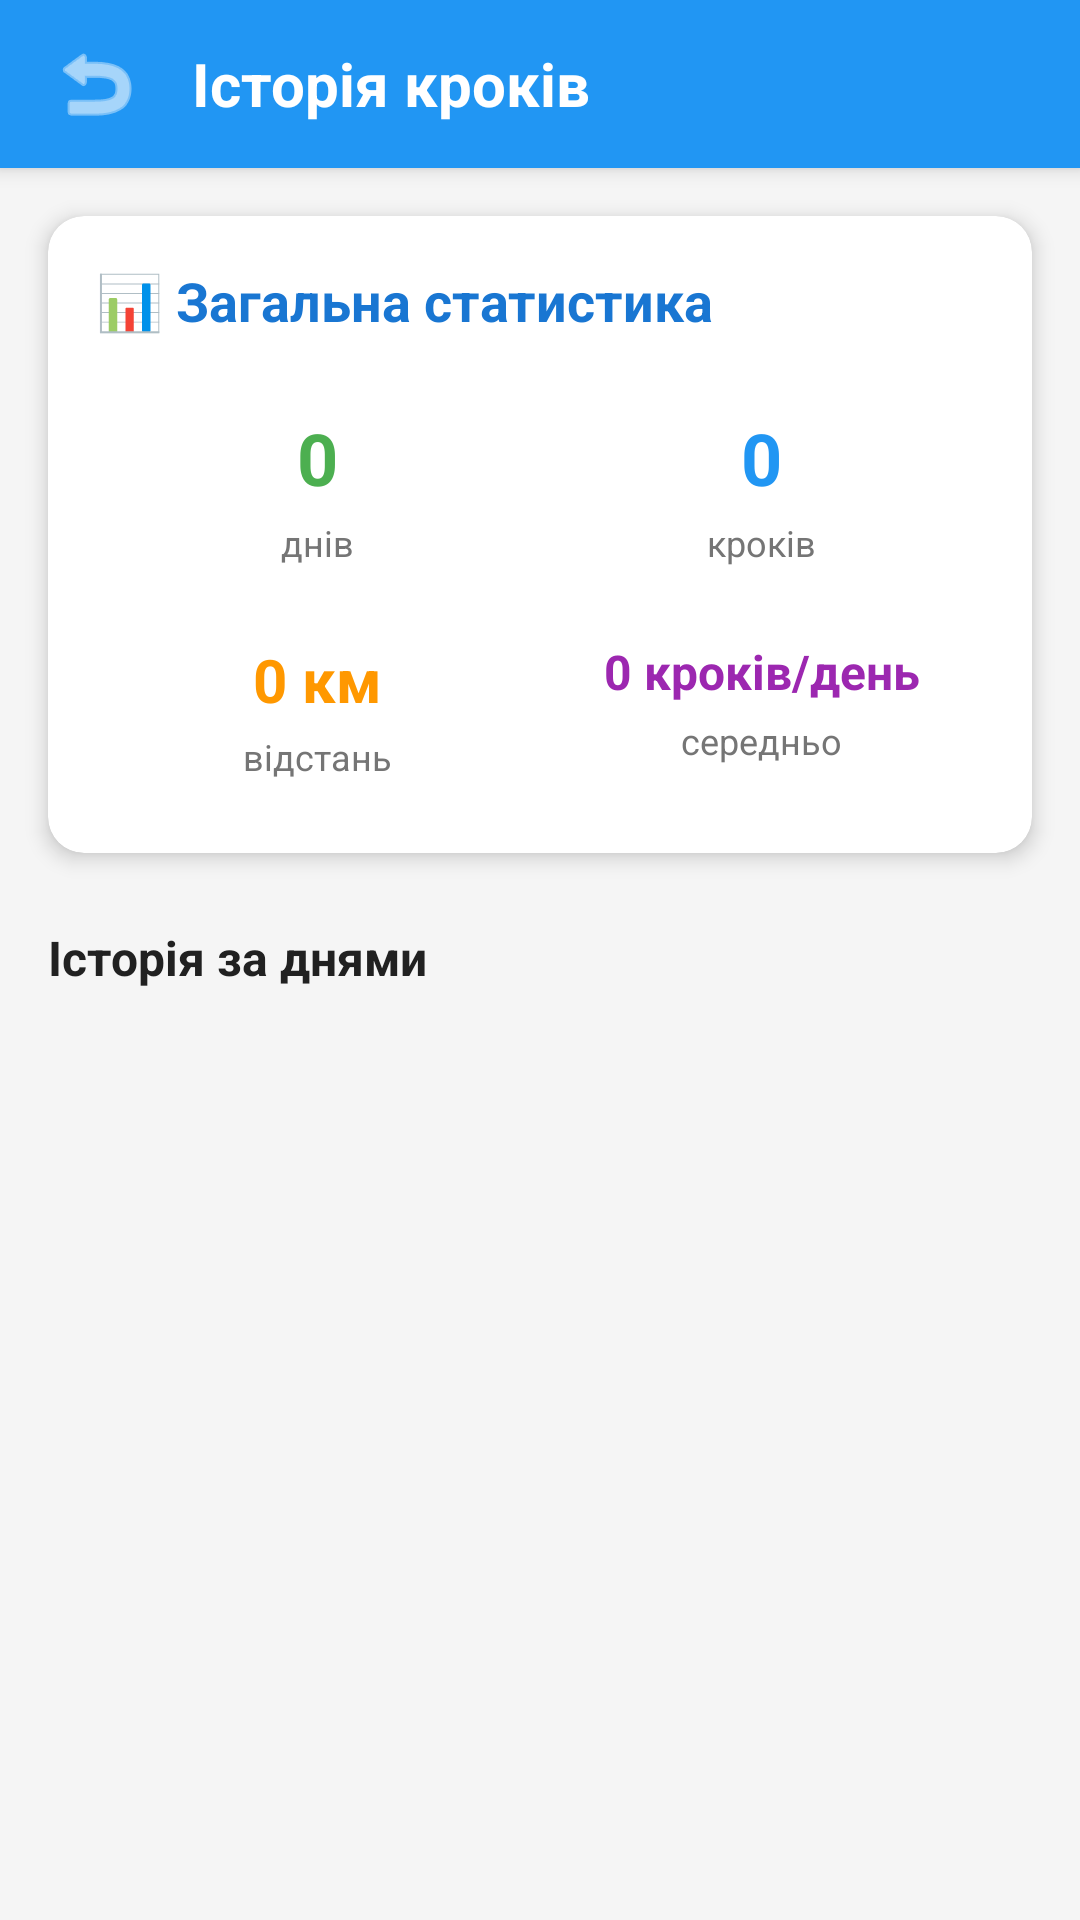

Icons on this 1080w x 1920h Android screen, each with the point to tap as point (x, y):
Назад: point (97, 84)
